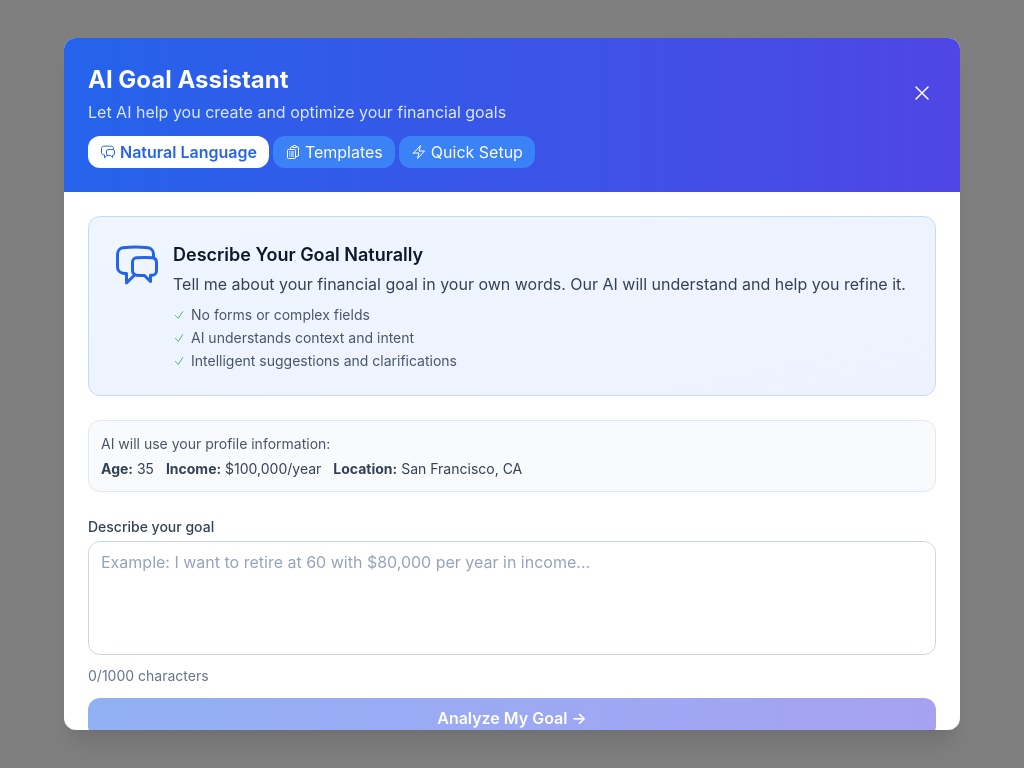
Test: AIGoalAssistant › displays conflicts when detected
Replace the text in the text box with placeholder "Example: I want to retire" with "Buy a house with $200,000 down payment": (512, 598) [88,541,936,655]
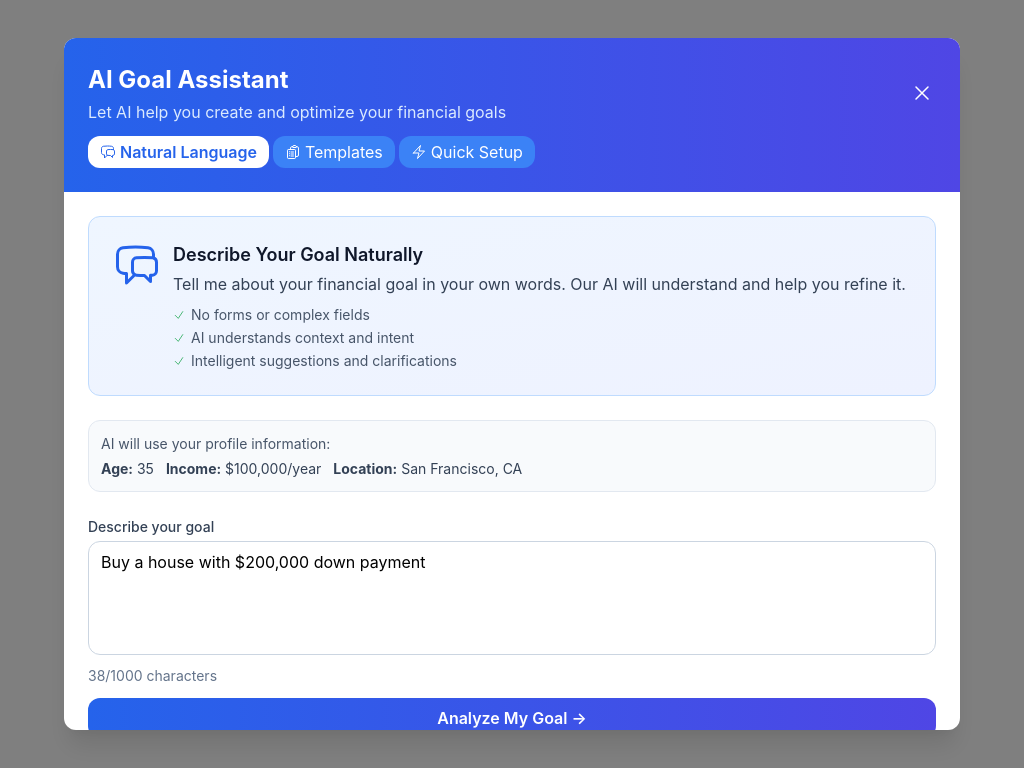
Click the button "Analyze My Goal →": (512, 718) [88,698,936,738]
(page scrolled)
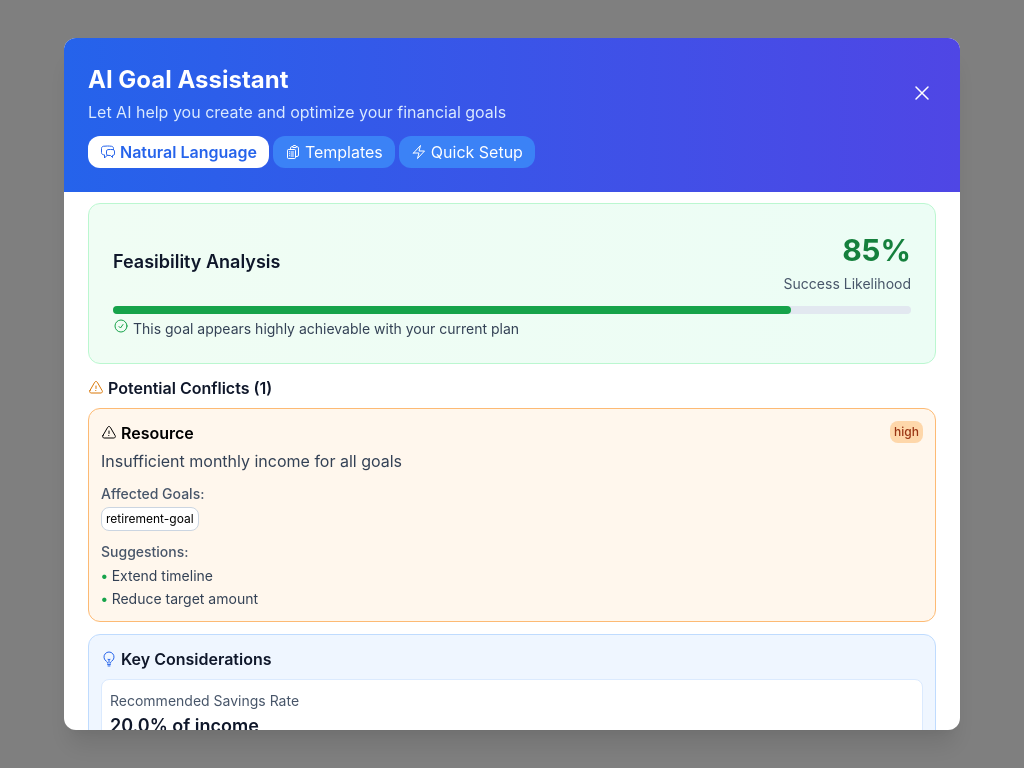
Check: the text "Potential Conflicts (1)" is shown, box [108,376,272,400]
Check: the text "Insufficient monthly income for all goals" is shown, box [101,451,402,471]
